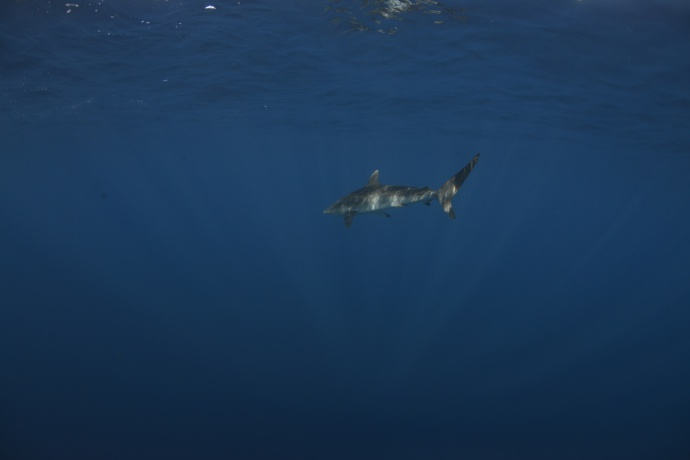Sedoso: (319, 147, 491, 242)
